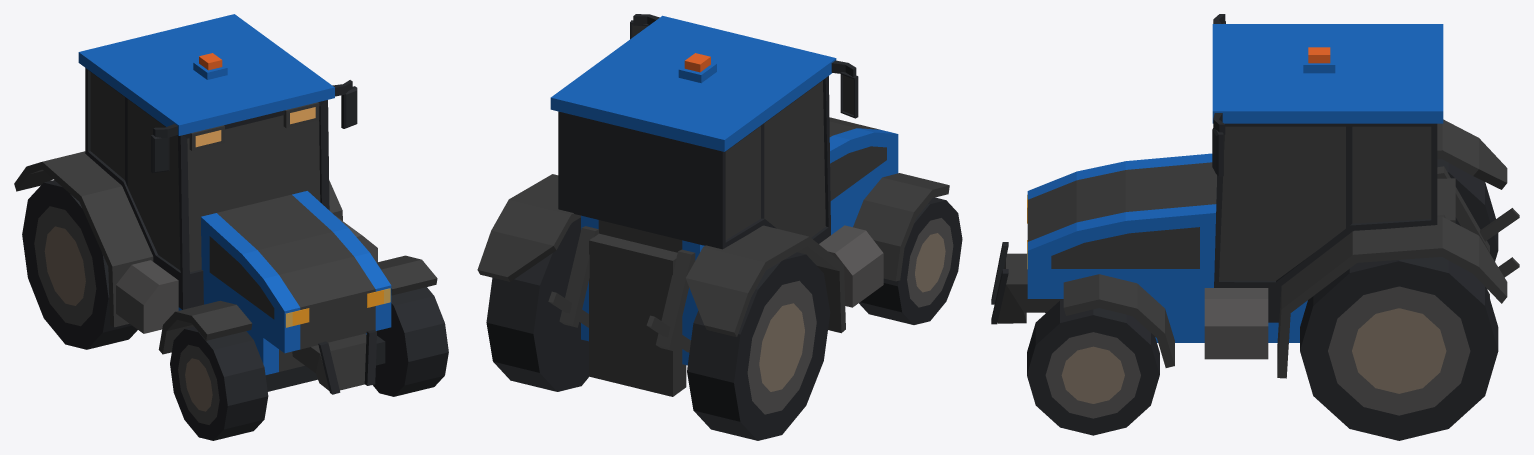
File: Tractor_4.fbx
3 renders of one model, left to right at view 1: azimuth 30°, elevation 25°; view 2: azimuth 150°, elevation 25°; view 3: azimuth 270°, elevation 25°, orthographic. The views are drawn at different scales.
Parts seen in each view (by area): view 1: Tractor_4, TractorFrontWheels_4, TractorBackWheels_4; view 2: Tractor_4, TractorBackWheels_4, TractorFrontWheels_4; view 3: Tractor_4, TractorBackWheels_4, TractorFrontWheels_4.
Boxes of the visible parts, x1,y1,x2,y2 form: Tractor_4: (14,14,437,394); TractorFrontWheels_4: (170,287,448,440); TractorBackWheels_4: (22,180,137,349); Tractor_4: (477,14,949,396); TractorBackWheels_4: (486,217,830,440); TractorFrontWheels_4: (859,197,962,324); Tractor_4: (991,14,1519,378); TractorBackWheels_4: (1300,159,1498,440); TractorFrontWheels_4: (1027,299,1159,435).
Bounding box in the file's own units: 243 × 283 × 414.
